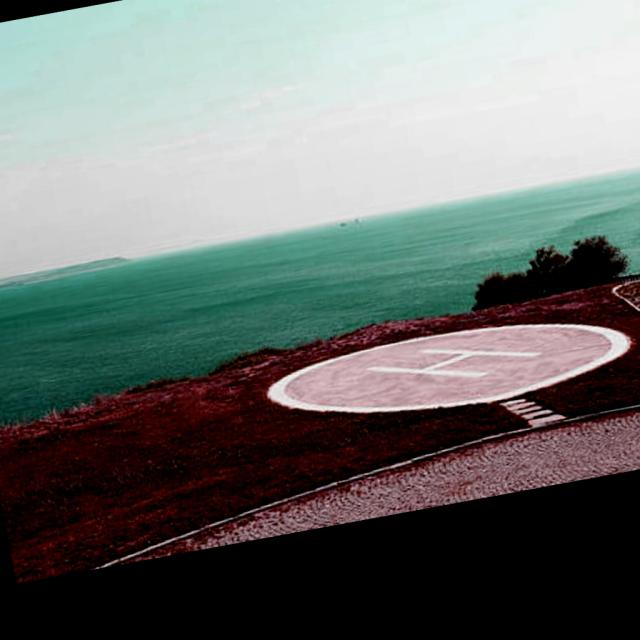helipad: (264, 318, 635, 416)
